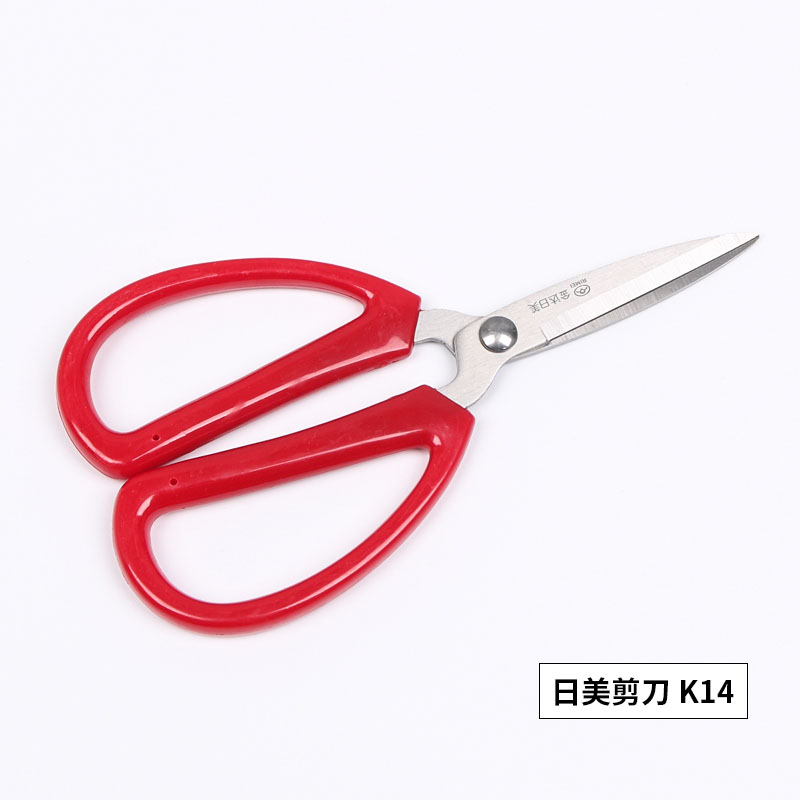scissors: (38, 228, 771, 642)
